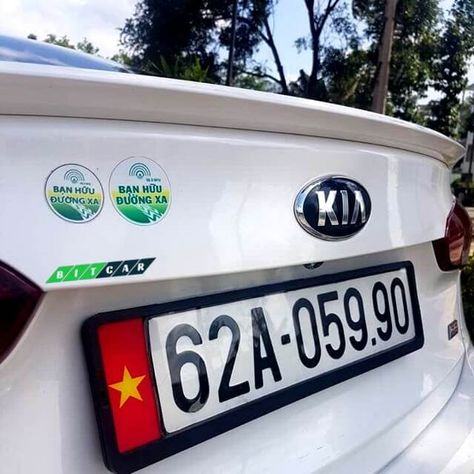number-plate: (150, 279, 437, 413)
